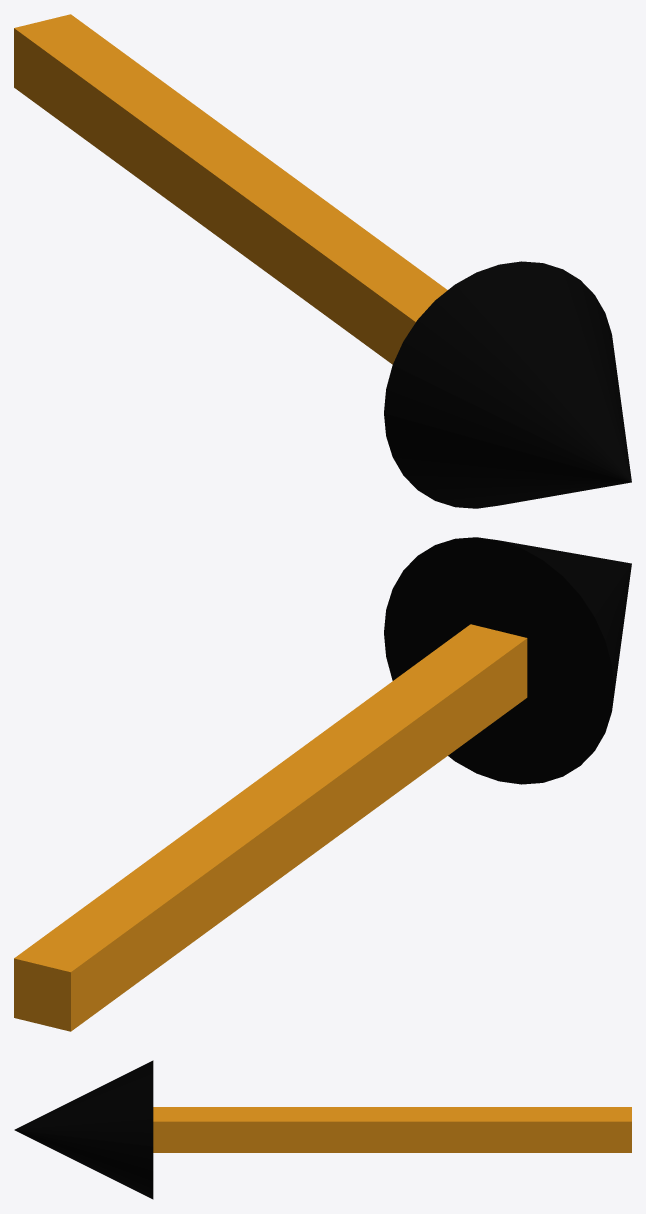
File: 弓箭塔弓箭.fbx
3 renders of one model, top to bottom at view 1: azimuth 30°, elevation 25°; view 2: azimuth 150°, elevation 25°; view 3: azimuth 270°, elevation 25°, orthographic. The views are drawn at different scales.
Visible parts, largest first — view 1: 锥体, Cube; view 2: Cube, 锥体; view 3: Cube, 锥体.
Boxes of the visible parts, x1,y1,x2,y2 form: 锥体: [384, 261, 631, 508]; Cube: [14, 14, 447, 364]; Cube: [14, 624, 527, 1031]; 锥体: [384, 537, 631, 784]; Cube: [153, 1107, 631, 1152]; 锥体: [14, 1060, 153, 1199].
Size of the model in its own units: 20.26 by 89.82 by 20.26.
